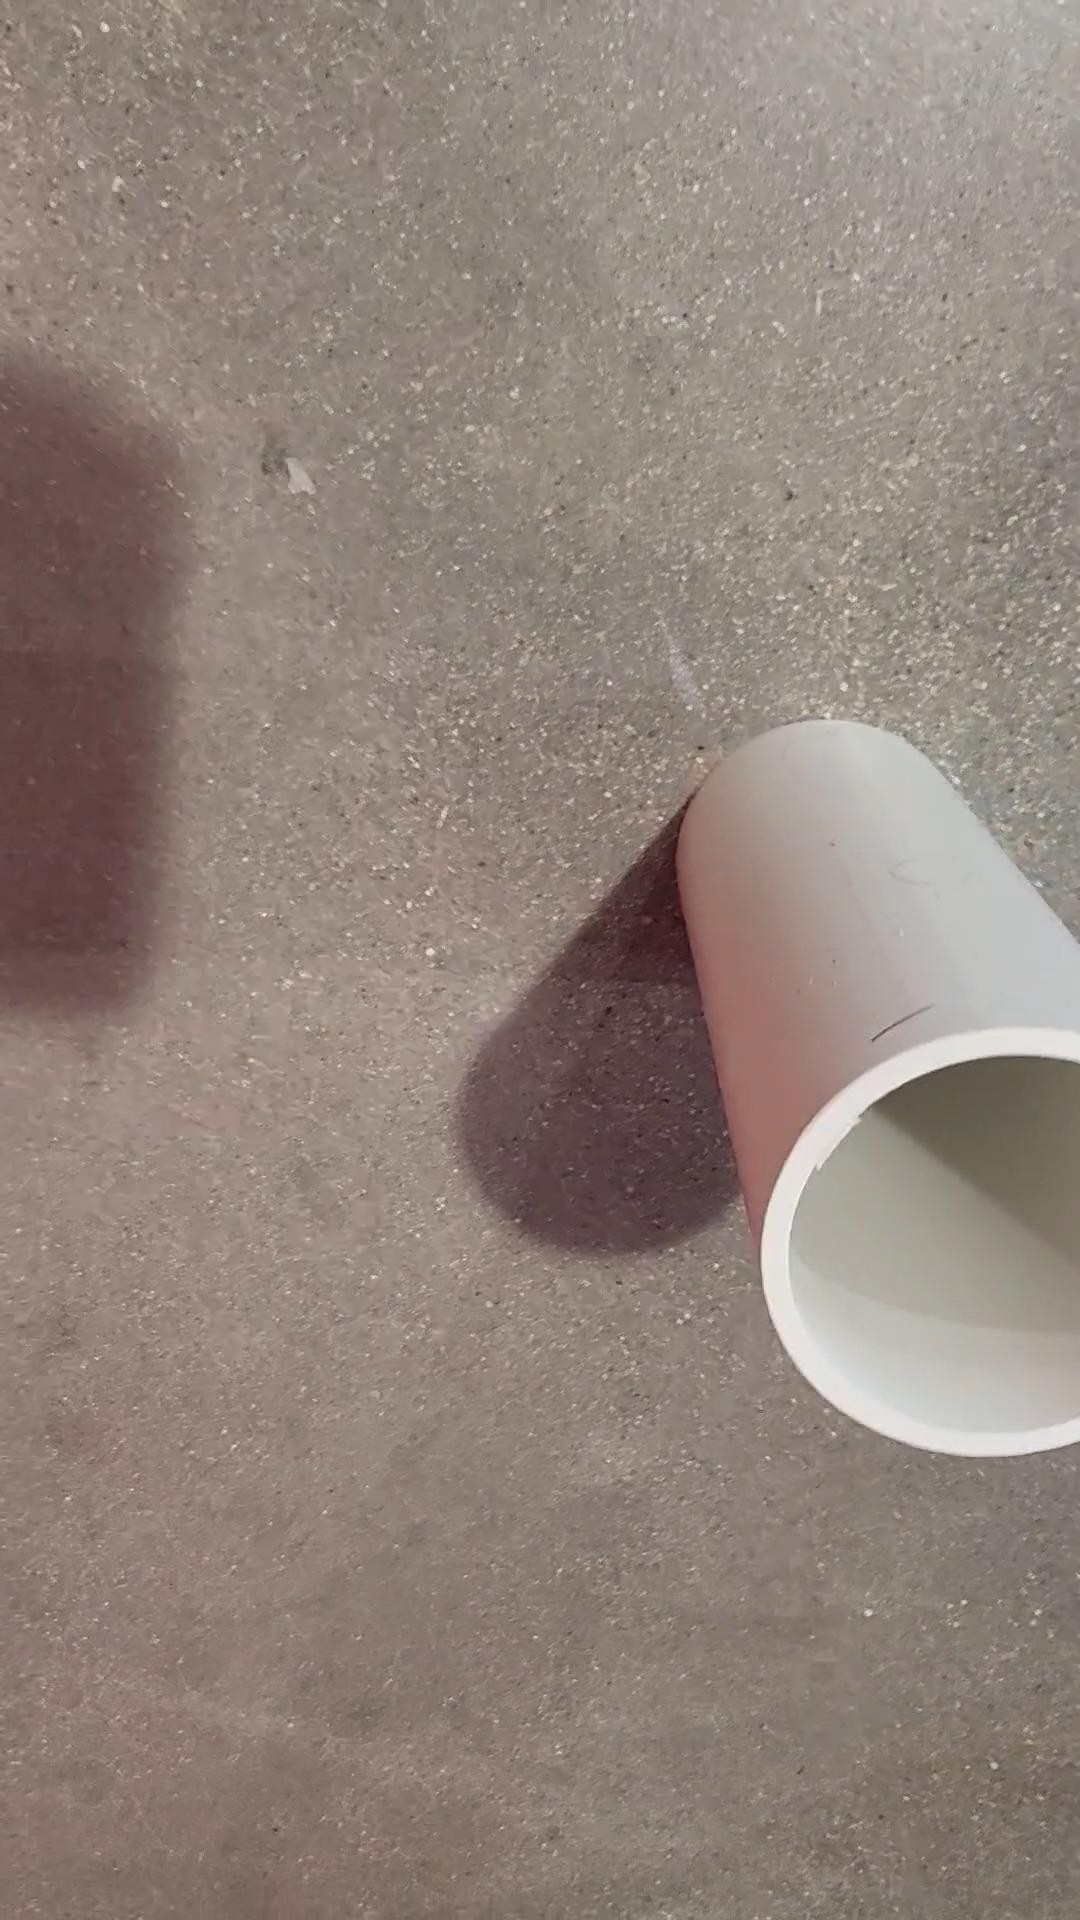coral: (680, 724, 1080, 1460)
